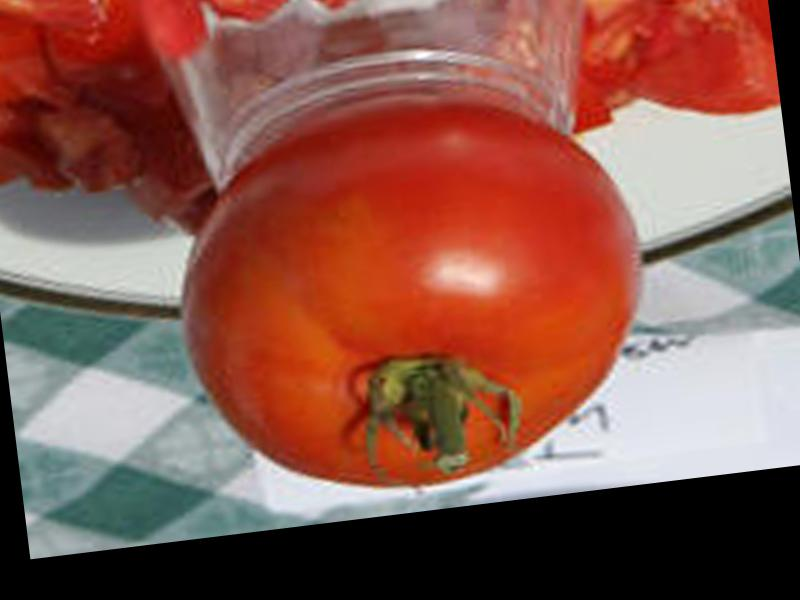Tomato: (158, 78, 669, 516)
